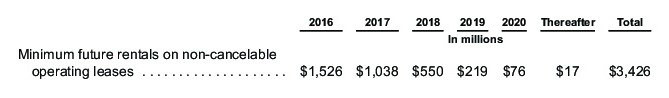table: (0, 0, 669, 98)
